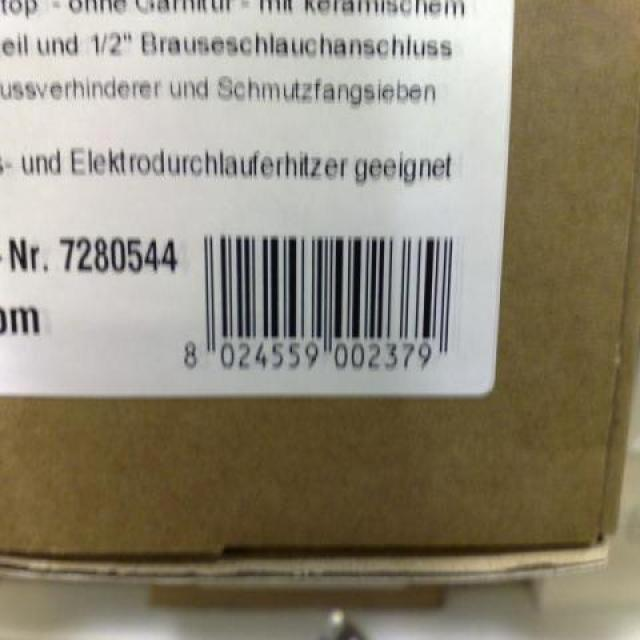Barcode: (177, 219, 470, 384)
